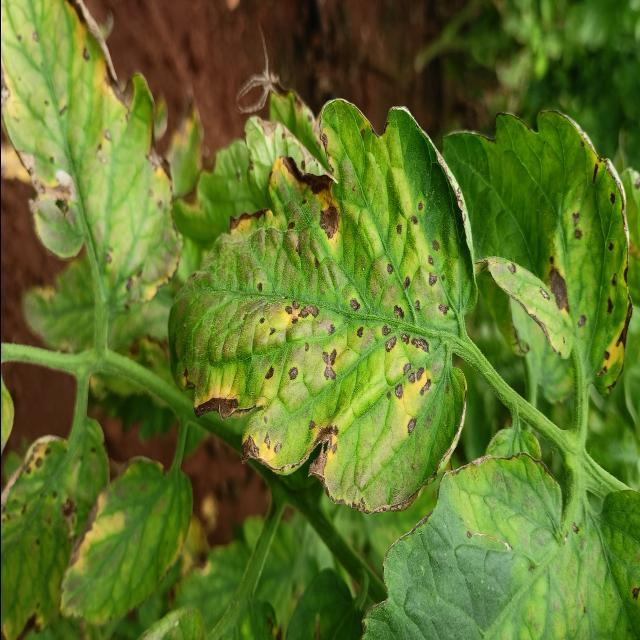Tomato mosaic virus leaf: (164, 88, 476, 520), (481, 96, 634, 399)
